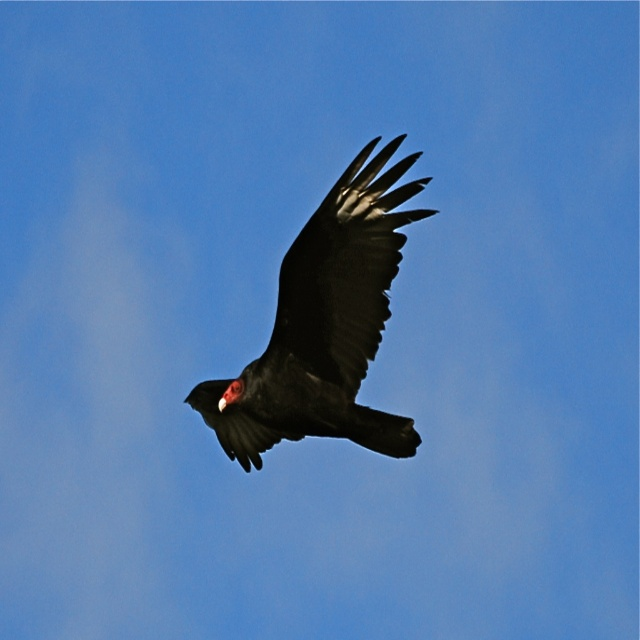Eagle: (176, 124, 432, 510)
